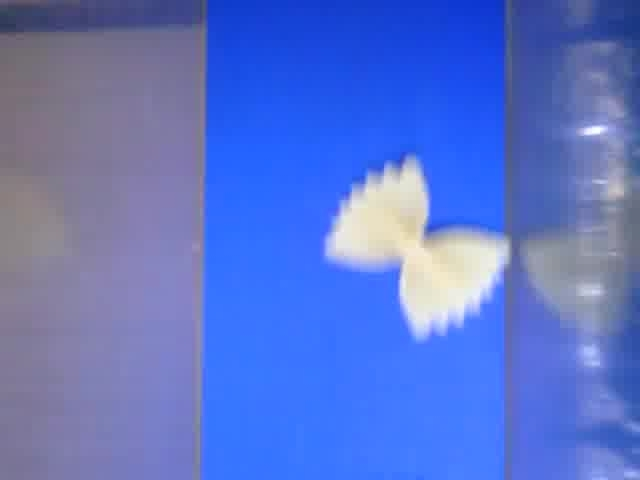farfalle: (326, 148, 514, 336)
